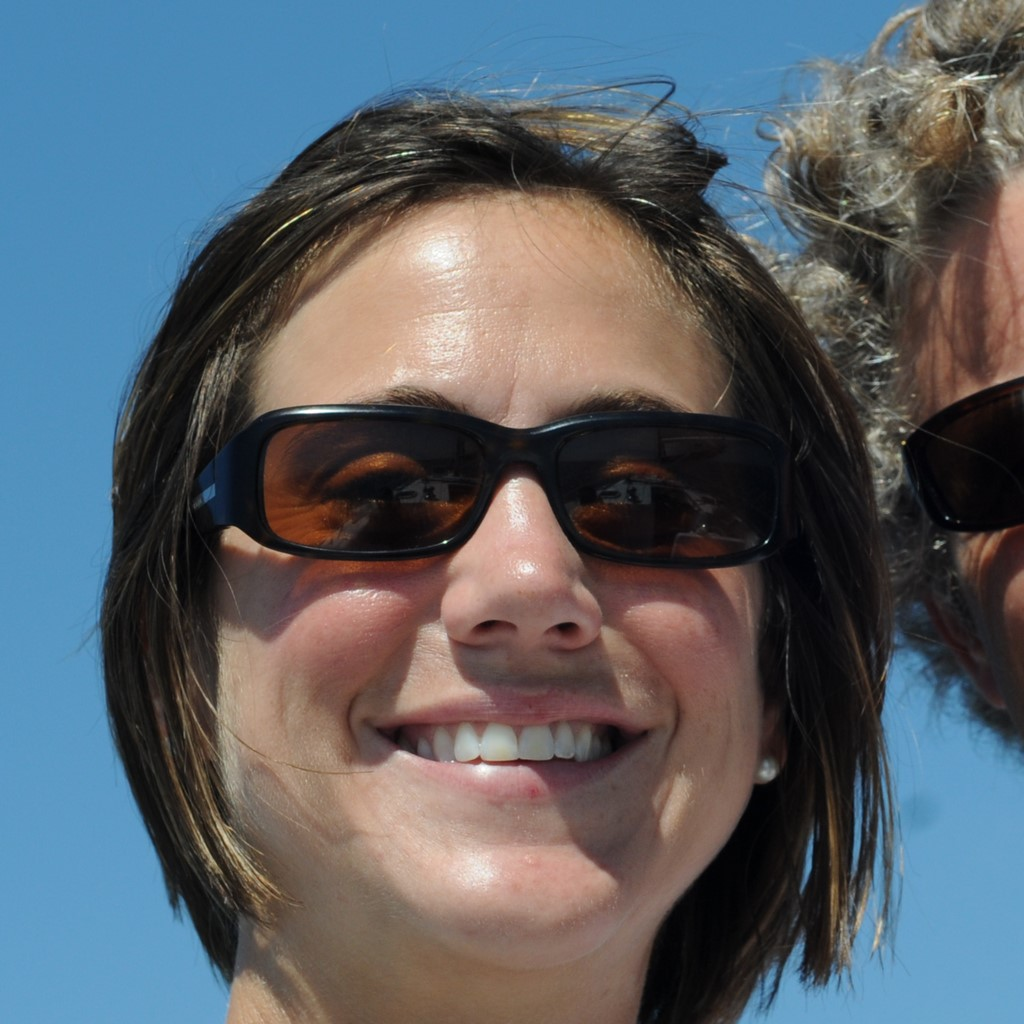sin_mascara: (196, 149, 766, 972)
